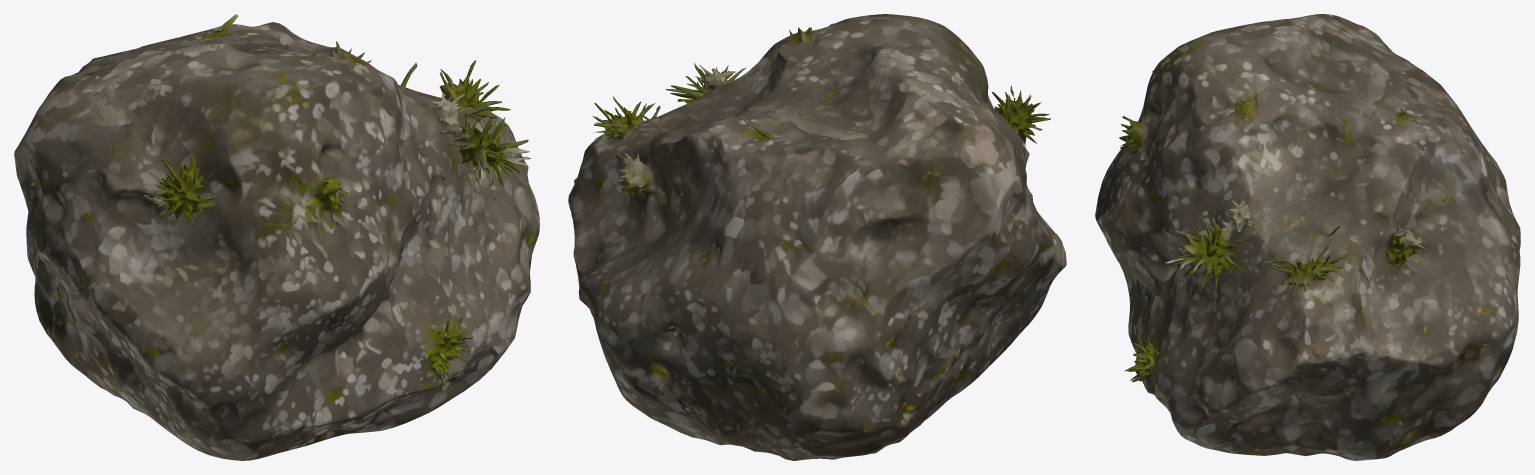
The model's file is prop_rock.glb.
The picture shows the model from 3 angles, left to right: view 1: azimuth 30°, elevation 25°; view 2: azimuth 150°, elevation 25°; view 3: azimuth 270°, elevation 25°; orthographic projection. The views are drawn at different scales.
Visible parts, largest first — view 1: tripo_node_6f35ca4a-1eec-49ca-a272-1e66a65ad5f0; view 2: tripo_node_6f35ca4a-1eec-49ca-a272-1e66a65ad5f0; view 3: tripo_node_6f35ca4a-1eec-49ca-a272-1e66a65ad5f0.
Boxes of the visible parts, x1,y1,x2,y2 form: tripo_node_6f35ca4a-1eec-49ca-a272-1e66a65ad5f0: (14,14,539,460); tripo_node_6f35ca4a-1eec-49ca-a272-1e66a65ad5f0: (568,14,1066,460); tripo_node_6f35ca4a-1eec-49ca-a272-1e66a65ad5f0: (1095,14,1520,460).
Size of the model in its own units: 1 by 0.789 by 0.8455.
Materials: 1 (1 with a texture image).
